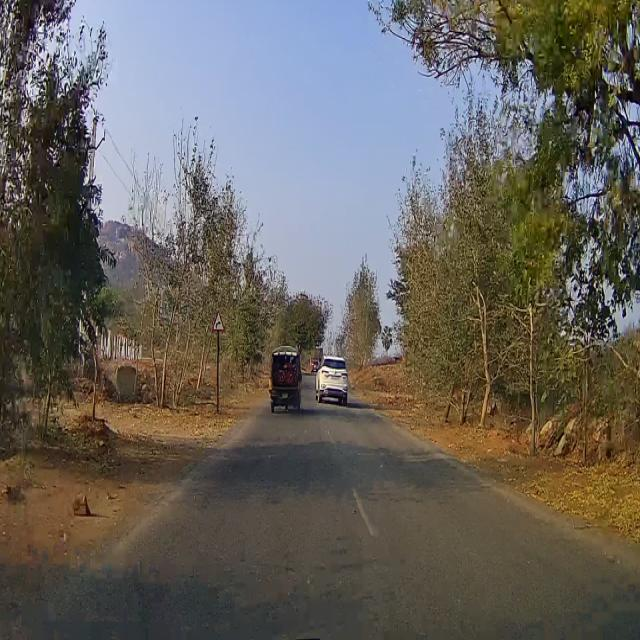right-hand-curve: (214, 311, 224, 336)
